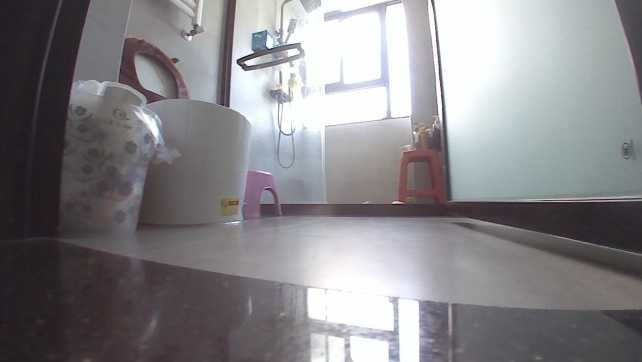plastic_stool: (395, 148, 445, 201), (244, 166, 285, 219)
toilet: (119, 37, 255, 228)
trash_can: (58, 79, 160, 235)
